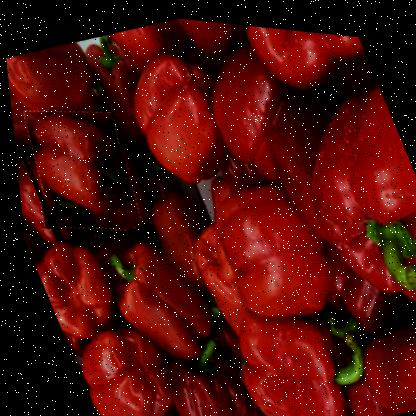capsicum: (7, 88, 151, 250)
